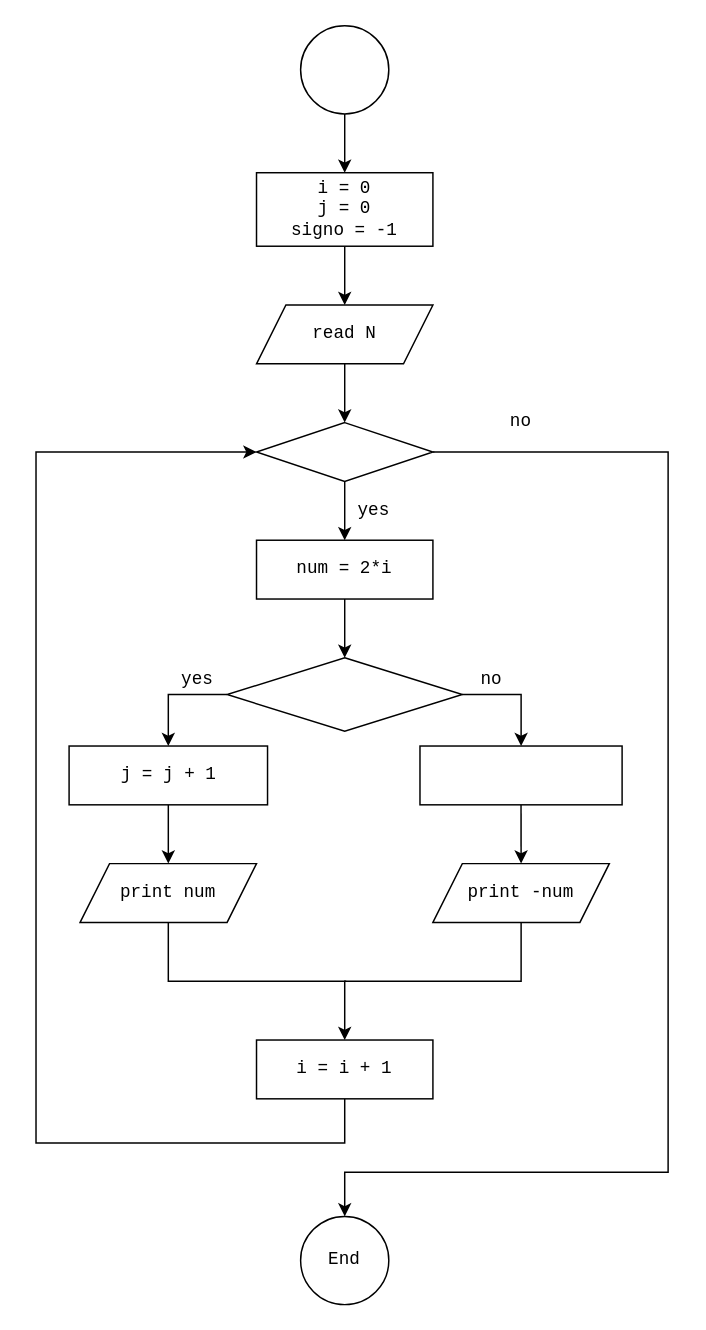
Some shapes in this 706 by 1330 pixel diagram are drawn without their labels. Each missing label, with the centre of its shape:
"i < N" goes at pixel 344 451.
"j <= signo - 1" goes at pixel 344 693.
"signo = signo + 1 j = 0" goes at pixel 520 775.
"Start" goes at pixel 344 69.
